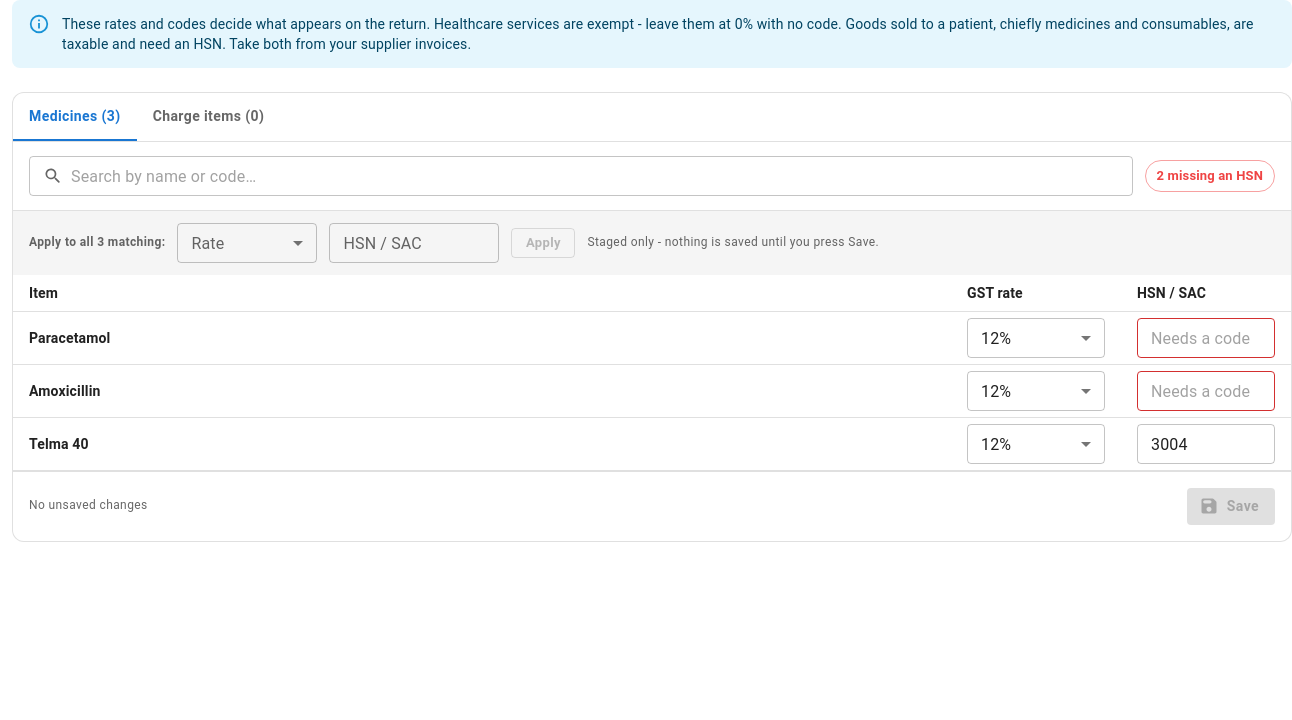
GstSetup readiness chip › counts the gaps and filters to them
Click the button "2 missing an HSN". click: (1210, 176)
box: [1145,160,1275,192]
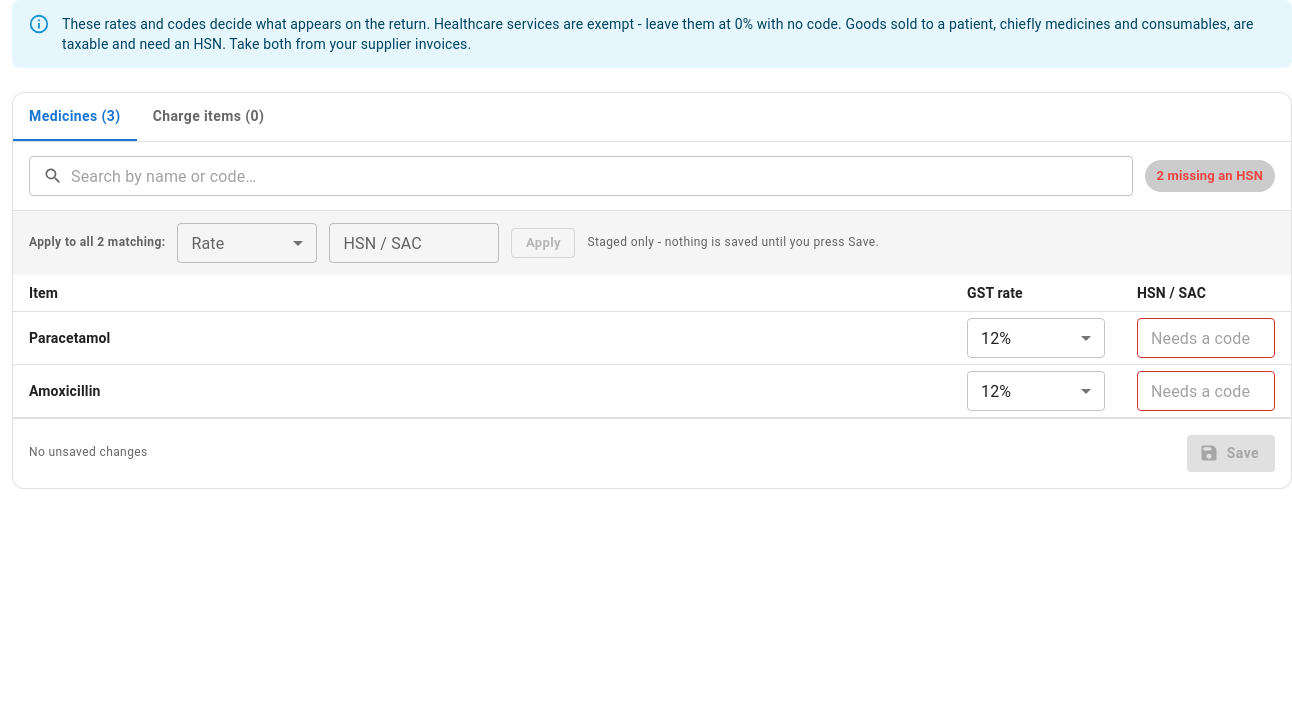
Expected: the text "Paracetamol" is shown, [29,330,110,346]
Expected: the text "Telma 40" is gone
